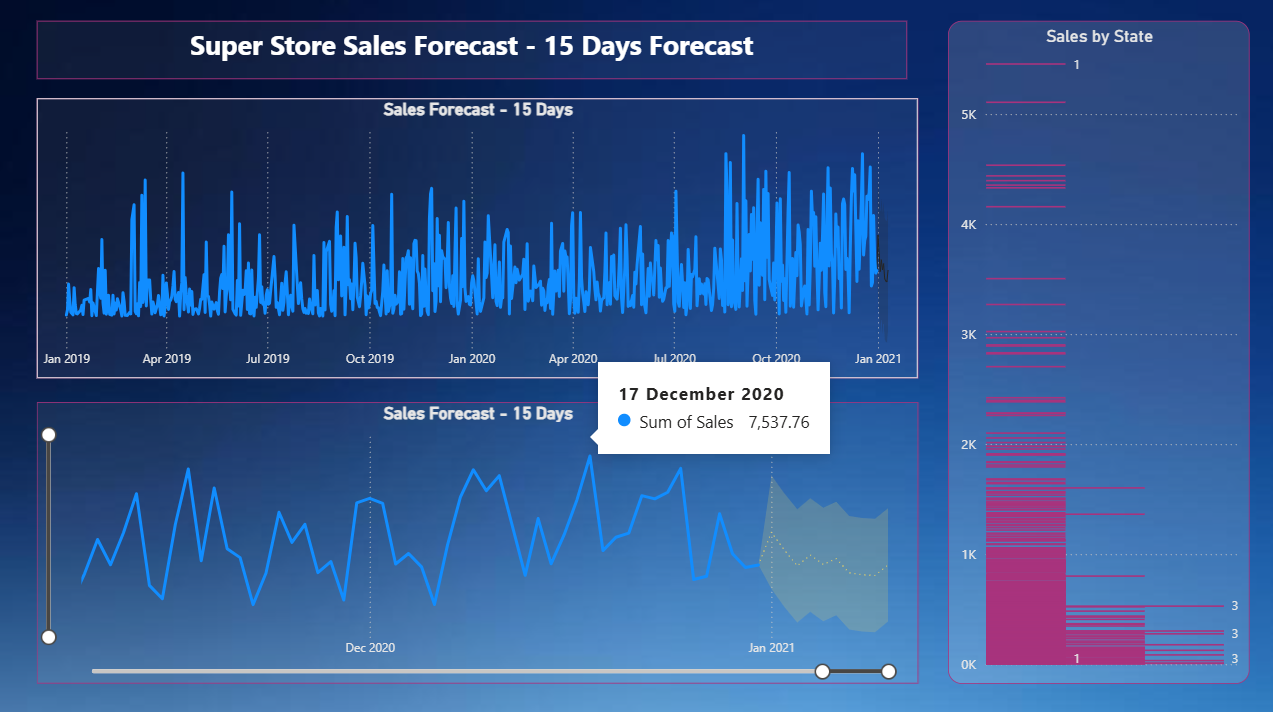

Layout of this report page (visuals, bound fields, positions):
{"tool":"powerbi","page":{"name":"Page 2","canvas":[1280,720],"ordinal":1},"visuals":[{"type":"lineChart","title":"Sales Forecast - 15 Days","fields":{"Y":["Sum(SuperStore_Sales_Dataset.Sales)"],"Category":["SuperStore_Sales_Dataset.Order Date"]},"box":[38.3,101.7,881.7,280],"z":0},{"type":"textbox","box":[38.3,23.3,870,58.3],"z":2},{"type":"lineChart","title":"Sales Forecast - 15 Days","fields":{"Y":["Sum(SuperStore_Sales_Dataset.Sales)"],"Category":["SuperStore_Sales_Dataset.Order Date"]},"box":[38.3,405,881.7,281.7],"z":3},{"type":"clusteredBarChart","title":"Sales by State","fields":{"Category":["SuperStore_Sales_Dataset.Sales"],"Y":["CountNonNull(SuperStore_Sales_Dataset.State)"]},"box":[950,23.3,301.7,663.3],"z":4}]}

Visuals, with their boxes in screenshot pixels (x1, y1, x2, y2), scaled from the page's 1280x720 canvas onto the 1273x712 screenshot:
"Sales Forecast - 15 Days" lineChart: rect(38, 101, 915, 377)
textbox: rect(38, 23, 903, 81)
"Sales Forecast - 15 Days" lineChart: rect(38, 400, 915, 679)
"Sales by State" clusteredBarChart: rect(945, 23, 1245, 679)
